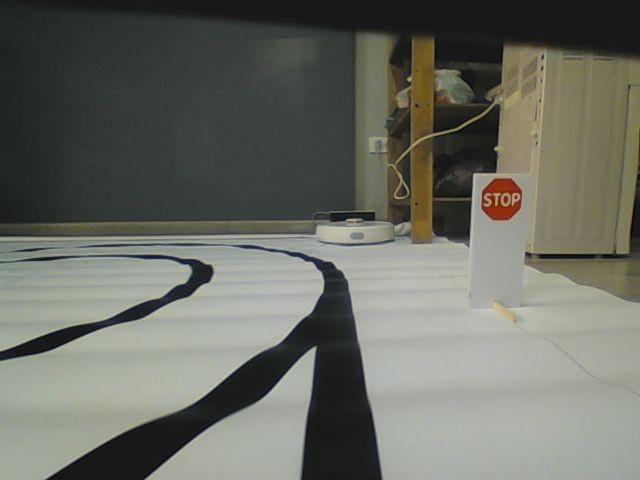Stop: (480, 176, 523, 223)
